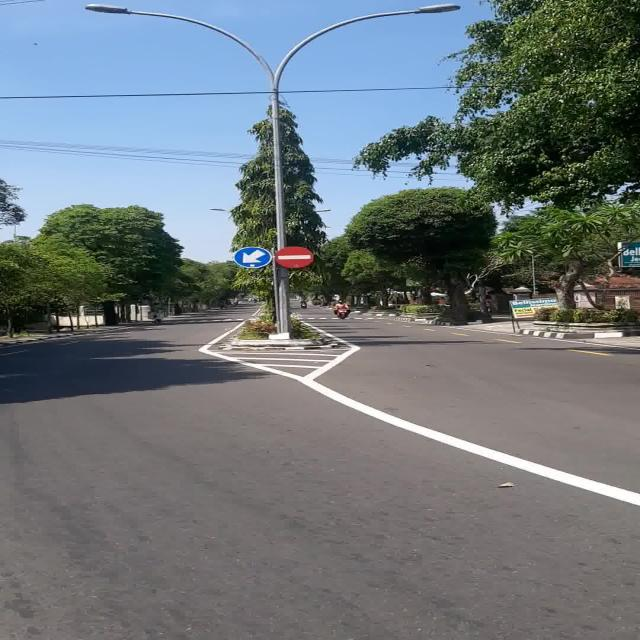Dilarang Masuk: (275, 246, 313, 268)
Lajur Kiri: (233, 246, 272, 268)
